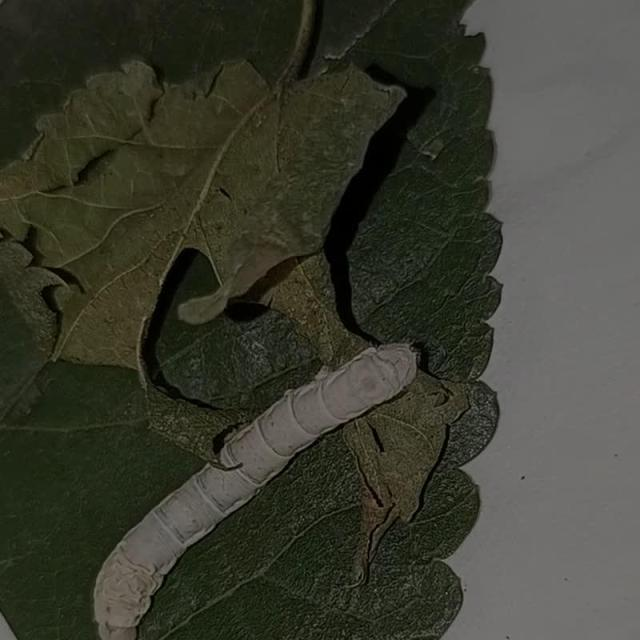Healthy: (69, 302, 460, 640)
